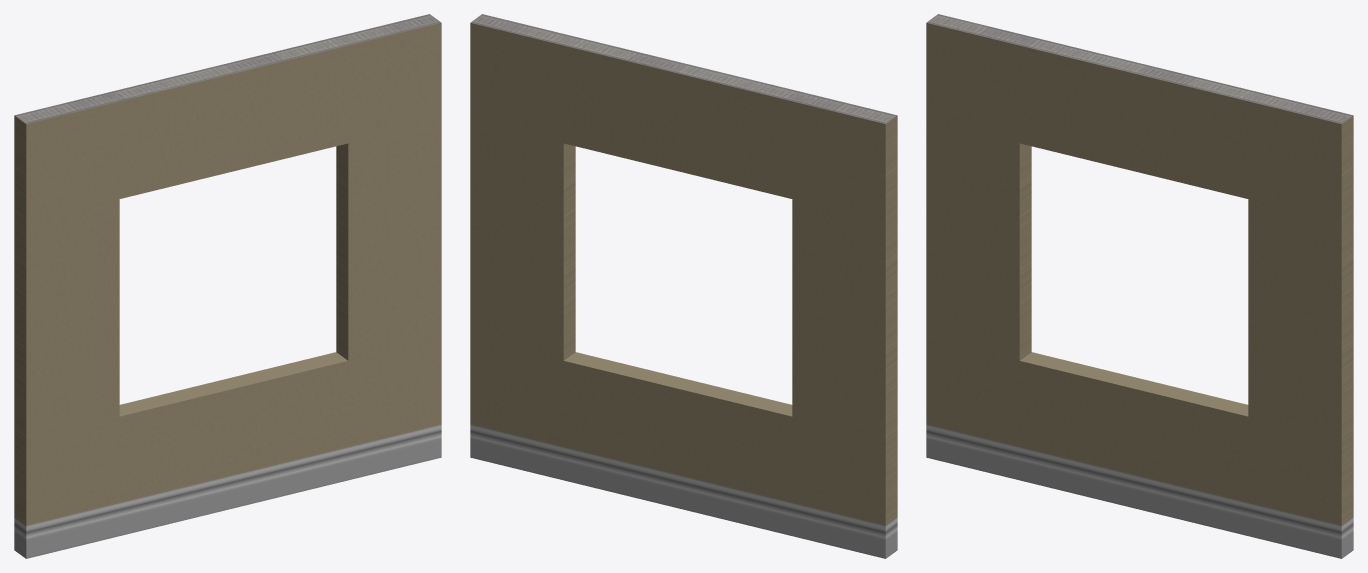
File: wall1_8.fbx
The picture shows the model from 3 angles, left to right: view 1: azimuth 30°, elevation 25°; view 2: azimuth 150°, elevation 25°; view 3: azimuth 330°, elevation 25°; orthographic projection.
Parts seen in each view (by area): view 1: wall1_yellow_h; view 2: wall1_yellow_h; view 3: wall1_yellow_h.
Boxes of the visible parts, x1,y1,x2,y2 form: wall1_yellow_h: (14, 14, 441, 558); wall1_yellow_h: (470, 14, 897, 558); wall1_yellow_h: (926, 14, 1353, 558).
Bounding box in the file's own units: 400 × 400 × 20.
